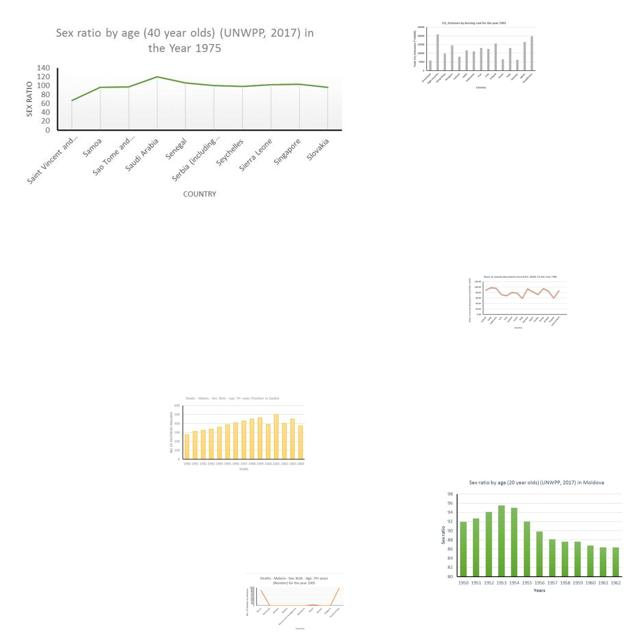Graph: (16, 21, 346, 202), (435, 478, 625, 595), (166, 394, 308, 473), (412, 20, 536, 90), (466, 274, 571, 332), (244, 573, 346, 632)
